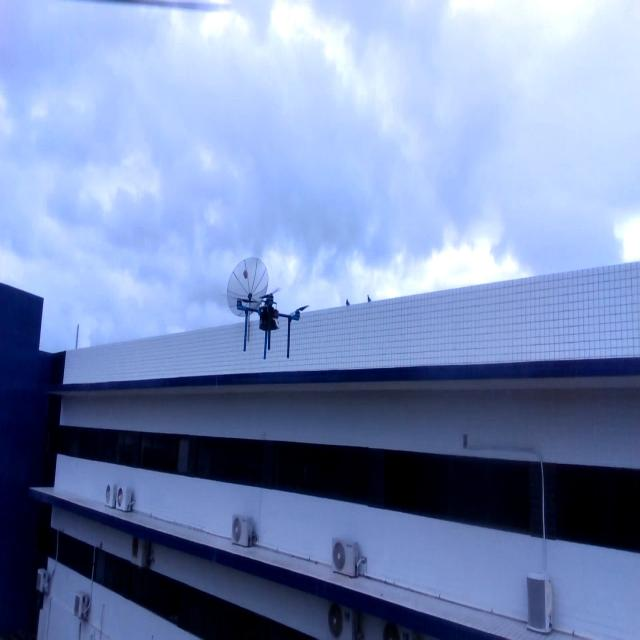-uav-: (232, 280, 308, 375)
